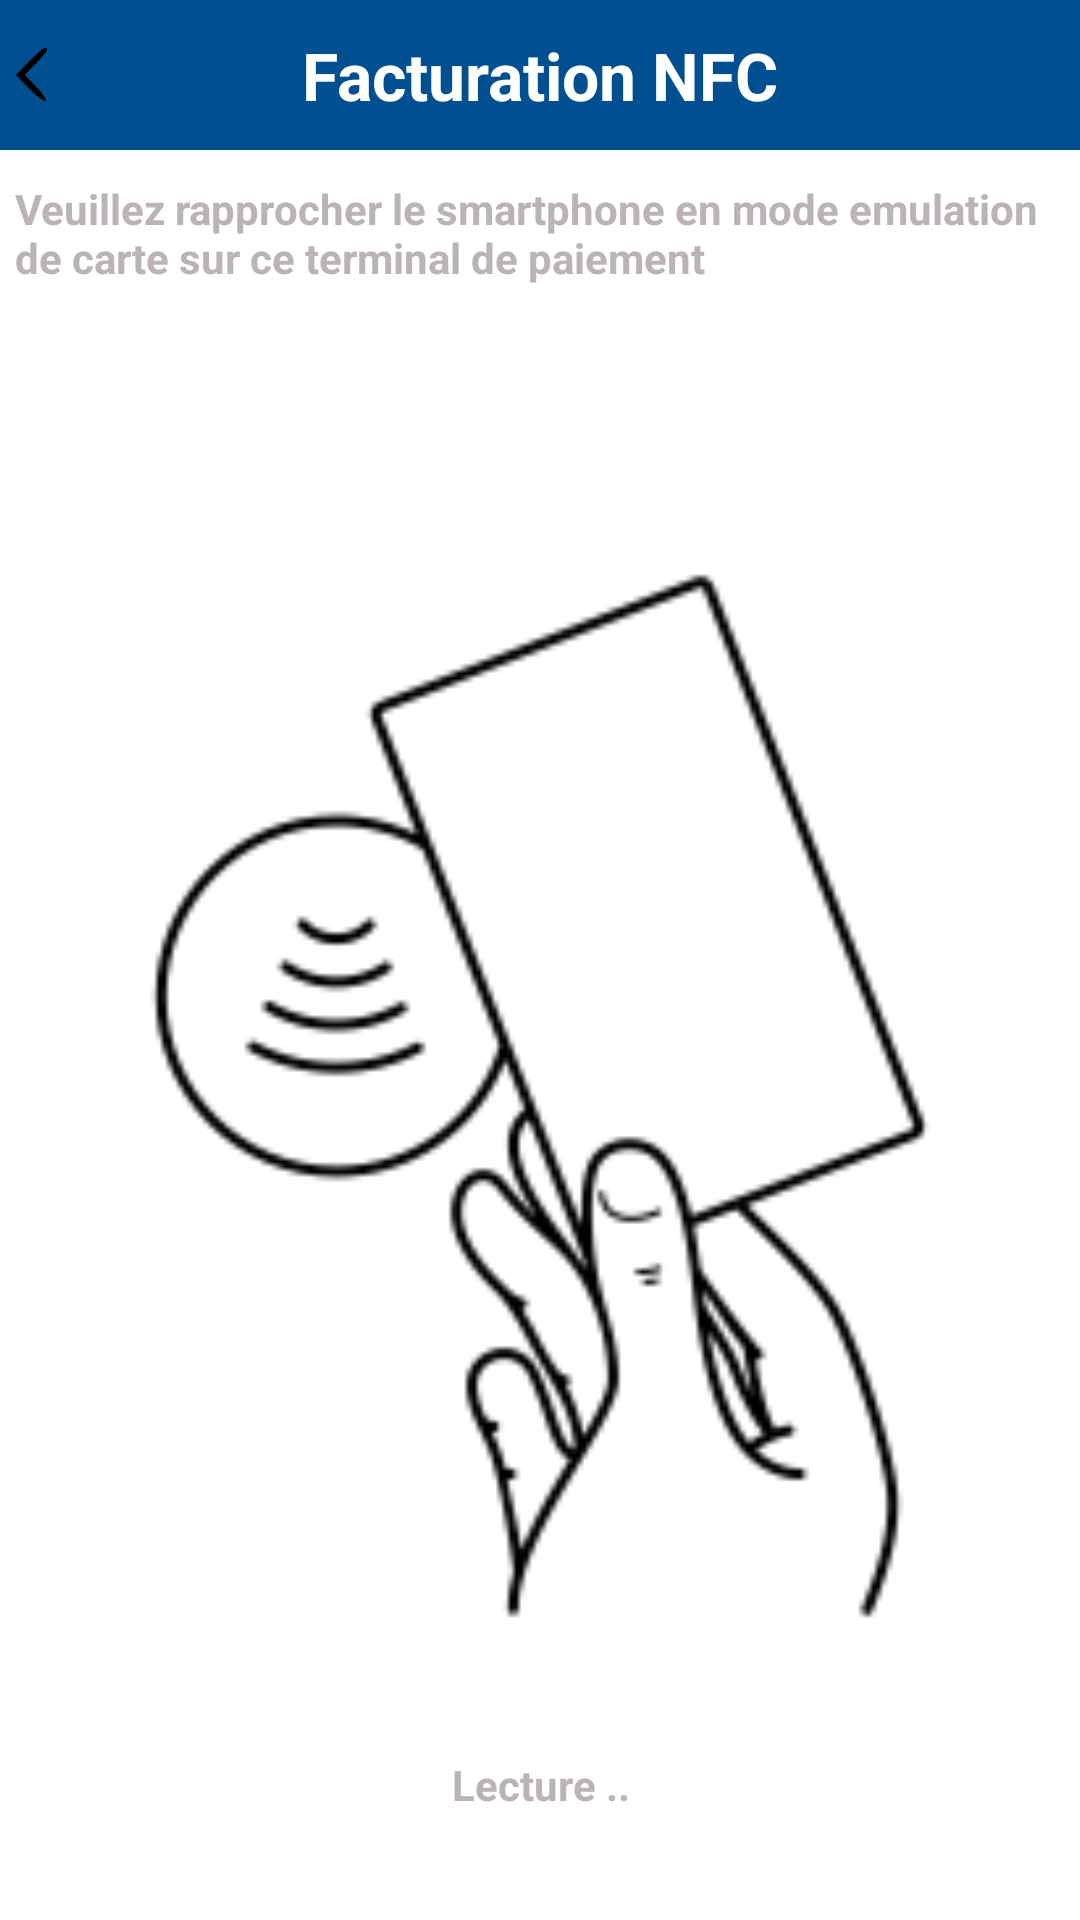

Point at icon controls on the screen. Image size 1080x1920, points as [x,y].
left: [31,75]
